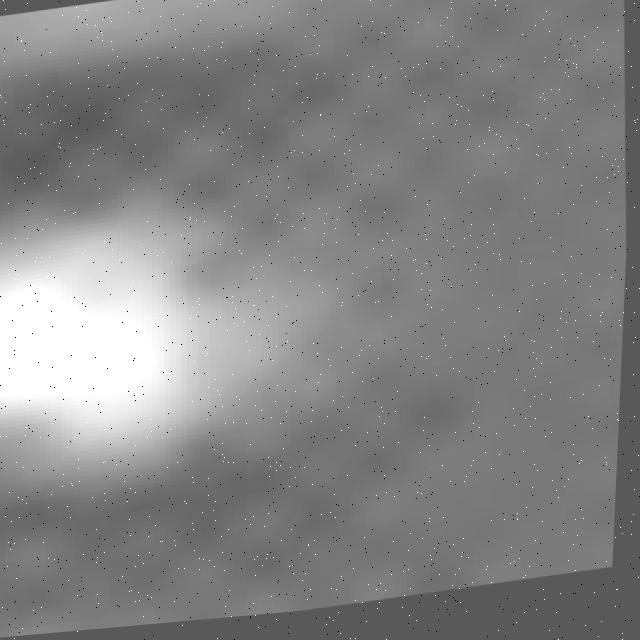person: (1, 186, 326, 465), (1, 1, 354, 90)
